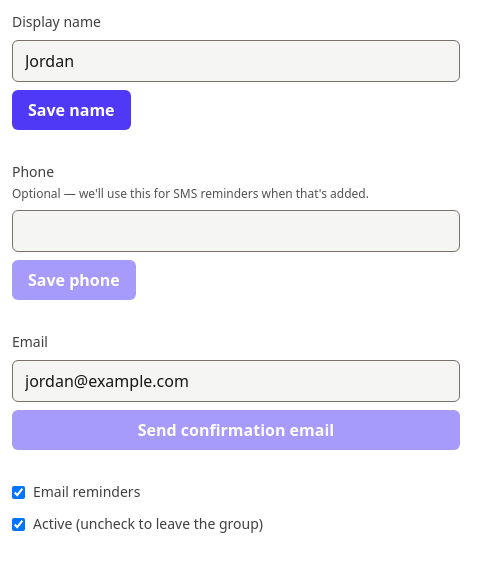
SettingsForm › reverts the toggle when the server rejects the update
This screenshot has width=477, height=582.
Click the checkbox labelled "Email reminders" at (18,492), box [12,486,25,498]
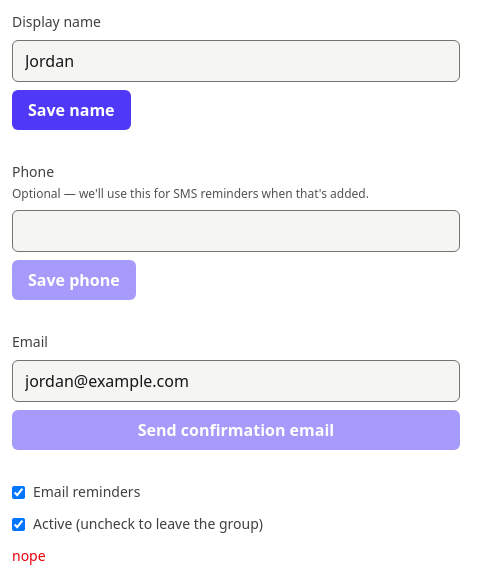
Result: the message "nope" is shown at [12,546,46,565]
